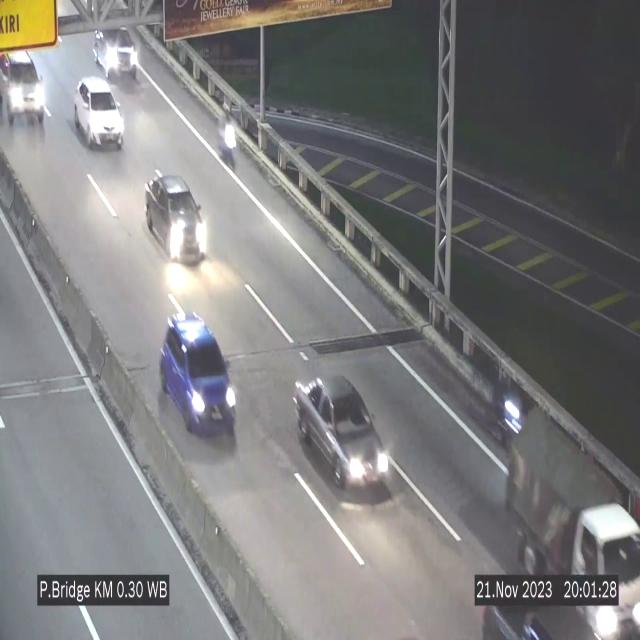Car: (293, 376, 394, 491), (159, 313, 236, 437), (146, 172, 208, 268), (75, 77, 123, 148)
Motorcycle: (496, 377, 520, 451), (218, 103, 240, 178)
Truck: (506, 404, 640, 640)
